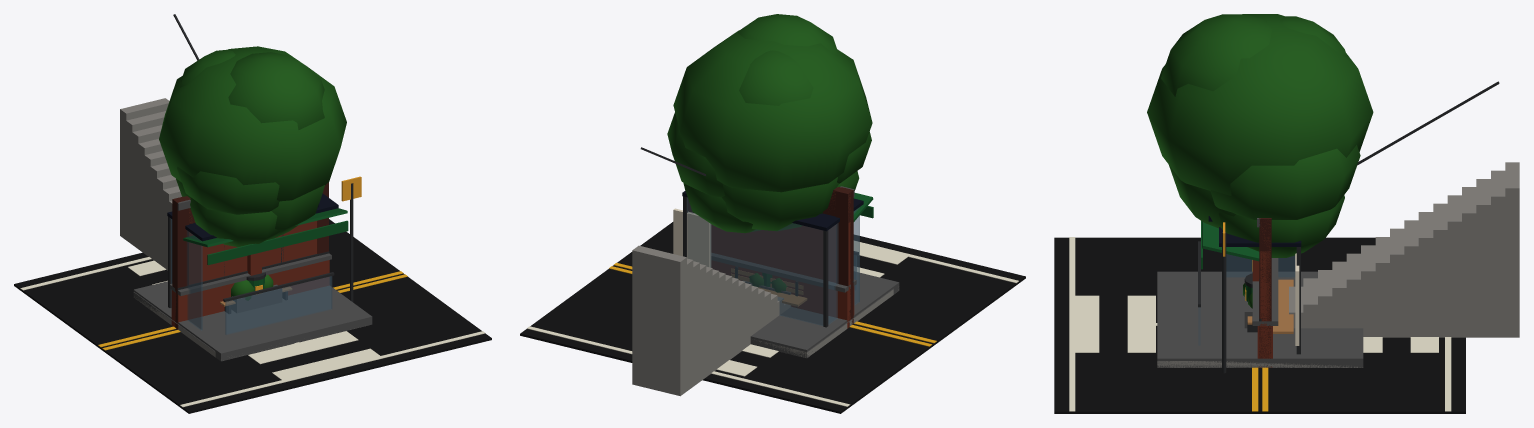
The model's file is KIT_REAL_CityKit_All.fbx.
3 renders of one model, left to right at view 1: azimuth 30°, elevation 25°; view 2: azimuth 150°, elevation 25°; view 3: azimuth 270°, elevation 25°, orthographic. The views are drawn at different scales.
Parts seen in each view (by area): view 1: KIT_Road_Intersection_4Way, PROP_REAL_Tree_B, KIT_RoofCap_4x4, KIT_Stairs_Straight_1Storey, KIT_Road_Crosswalk, KIT_Storefront_4m_BrickDark_FreshMartGreen, KIT_Balcony_3m, PROP_REAL_Tree_A, KIT_RoofParapet_4m_Brick, PROP_REAL_BusStop, KIT_Road_Straight_8m, KIT_Wall_4m_Door_Brick (+4 smaller); view 2: PROP_REAL_Tree_B, KIT_Road_Intersection_4Way, KIT_Stairs_Straight_1Storey, PROP_REAL_BusStop, PROP_REAL_Tree_A, KIT_Wall_4m_Plain_Brick, KIT_RoofCap_4x4, KIT_Road_Crosswalk, KIT_RoofParapet_4m_Brick, KIT_Storefront_4m_BrickDark_FreshMartGreen, KIT_Road_Straight_8m, KIT_Sidewalk_4m; view 3: PROP_REAL_Tree_B, KIT_Road_Intersection_4Way, KIT_Stairs_Straight_1Storey, KIT_RoofCap_4x4, KIT_Road_Crosswalk, PROP_REAL_Tree_A, PROP_REAL_BusStop, KIT_Road_Straight_8m, KIT_Storefront_4m_BrickDark_FreshMartGreen, KIT_RoofParapet_4m_Brick, KIT_Wall_4m_Door_Brick, KIT_Sidewalk_4m.
Boxes of the visible parts, x1,y1,x2,y2 form: KIT_Road_Intersection_4Way: (14, 219, 491, 413); PROP_REAL_Tree_B: (159, 46, 346, 214); KIT_RoofCap_4x4: (133, 281, 372, 361); KIT_Stairs_Straight_1Storey: (120, 14, 199, 270); KIT_Road_Crosswalk: (110, 253, 397, 390); KIT_Storefront_4m_BrickDark_FreshMartGreen: (172, 182, 348, 329); KIT_Balcony_3m: (223, 272, 334, 334); PROP_REAL_Tree_A: (176, 178, 324, 246); KIT_RoofParapet_4m_Brick: (169, 253, 331, 329); PROP_REAL_BusStop: (167, 176, 361, 330); KIT_Road_Straight_8m: (20, 257, 485, 407); KIT_Wall_4m_Door_Brick: (177, 199, 318, 284); PROP_REAL_Tree_B: (667, 14, 872, 197); KIT_Road_Intersection_4Way: (520, 222, 1025, 413); KIT_Stairs_Straight_1Storey: (632, 147, 790, 396); PROP_REAL_BusStop: (673, 190, 863, 327); PROP_REAL_Tree_A: (683, 171, 859, 233); KIT_Wall_4m_Plain_Brick: (712, 191, 850, 323); KIT_RoofCap_4x4: (750, 272, 899, 358); KIT_Road_Crosswalk: (620, 235, 923, 388); KIT_RoofParapet_4m_Brick: (711, 253, 856, 328); KIT_Storefront_4m_BrickDark_FreshMartGreen: (688, 187, 873, 327); KIT_Road_Straight_8m: (527, 241, 1018, 406); KIT_Sidewalk_4m: (752, 285, 898, 357); PROP_REAL_Tree_B: (1147, 14, 1373, 219); KIT_Road_Intersection_4Way: (1054, 237, 1465, 413); KIT_Stairs_Straight_1Storey: (1289, 81, 1519, 337); KIT_RoofCap_4x4: (1157, 271, 1363, 367); KIT_Road_Crosswalk: (1054, 292, 1465, 357); PROP_REAL_Tree_A: (1169, 165, 1344, 257); PROP_REAL_BusStop: (1219, 222, 1301, 373); KIT_Road_Straight_8m: (1069, 237, 1451, 411); KIT_Storefront_4m_BrickDark_FreshMartGreen: (1201, 218, 1271, 367); KIT_RoofParapet_4m_Brick: (1252, 258, 1278, 367); KIT_Wall_4m_Door_Brick: (1208, 216, 1270, 367); KIT_Sidewalk_4m: (1159, 361, 1362, 367).
Size of the model in its own units: 8 by 9.04 by 6.75.
